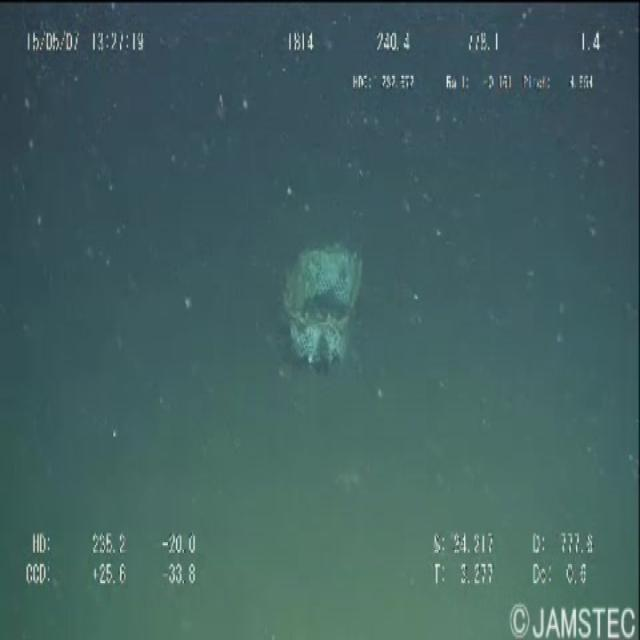Litter: (282, 241, 372, 388)
